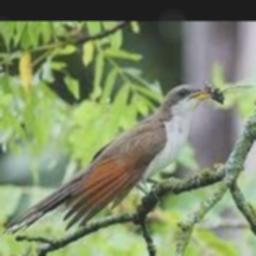Cuckoo: (4, 85, 212, 235)
